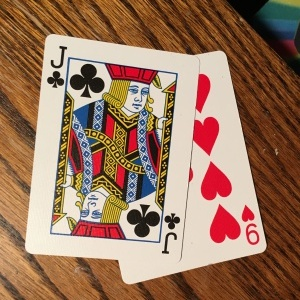card: (26, 33, 200, 267), (176, 49, 267, 265)
